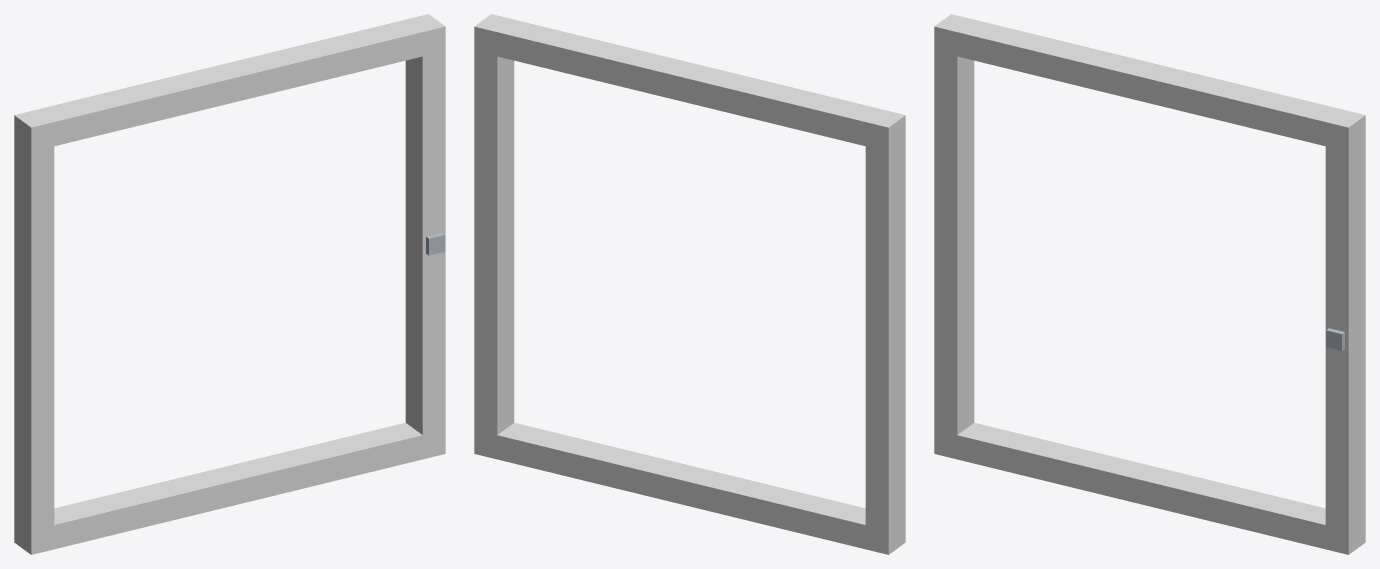
Rendered from Window5_04_2.fbx.
3 renders of one model, left to right at view 1: azimuth 30°, elevation 25°; view 2: azimuth 150°, elevation 25°; view 3: azimuth 330°, elevation 25°, orthographic.
Visible parts, largest first — view 1: Window5_04_2; view 2: Window5_04_2; view 3: Window5_04_2.
Boxes of the visible parts, x1,y1,x2,y2 form: Window5_04_2: [14, 14, 445, 554]; Window5_04_2: [474, 14, 905, 554]; Window5_04_2: [934, 14, 1365, 554].
Bounding box in the file's own units: 71.47 × 70.42 × 5.99.
